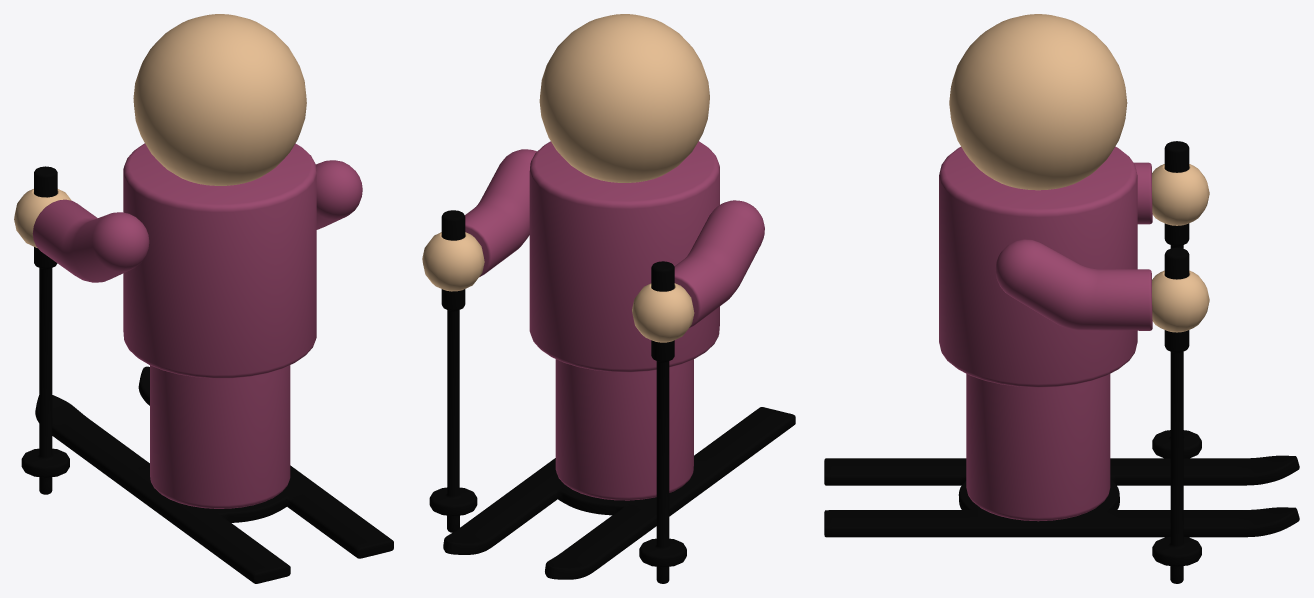
The model's file is model_character_ski.glb.
3 renders of one model, left to right at view 1: azimuth 30°, elevation 25°; view 2: azimuth 150°, elevation 25°; view 3: azimuth 270°, elevation 25°, orthographic. The views are drawn at different scales.
Parts seen in each view (by area): view 1: body, head, arms, skis; view 2: body, arms, head, skis; view 3: body, head, arms, skis.
Part boxes in pixels (x1,y1,x2,y2): body: [123, 143, 316, 508]; head: [133, 14, 306, 185]; arms: [14, 160, 362, 494]; skis: [35, 366, 393, 583]; body: [529, 141, 719, 500]; arms: [422, 149, 764, 583]; head: [539, 14, 709, 182]; skis: [443, 407, 795, 579]; body: [939, 146, 1137, 521]; head: [949, 14, 1127, 190]; arms: [995, 141, 1209, 583]; skis: [824, 455, 1299, 537].
Bounding box in the file's own units: 0.2856 × 0.5019 × 0.427.
